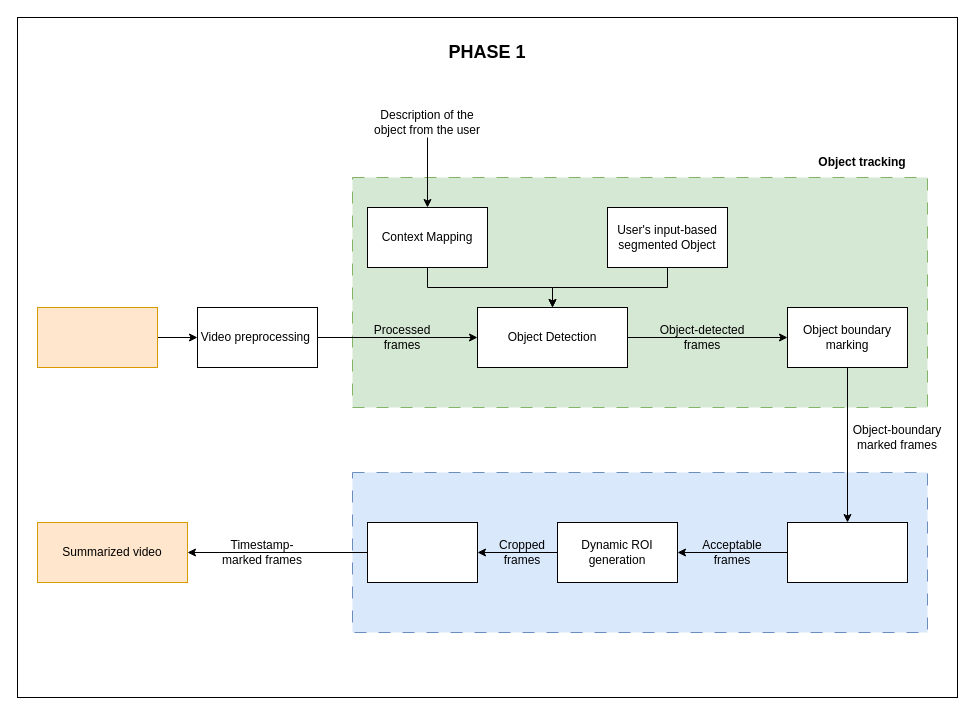
Image size: 975x715. Some labels were removed from this diagram. The shapes that lost their labels are listed below. From the top down, each one's centre as x and y in pixels, then its label:
At point 97,337: "Single video feed".
At point 422,552: "Timestamp tracking".
At point 847,552: "Frame Selection".
